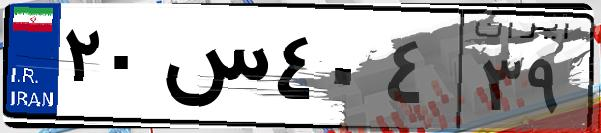0: (330, 28, 385, 110), (110, 28, 158, 98)
2: (57, 26, 110, 100)
3: (475, 38, 525, 113)
4: (270, 28, 330, 110), (385, 28, 445, 110)
9: (525, 38, 570, 115)
س: (158, 20, 270, 120)
